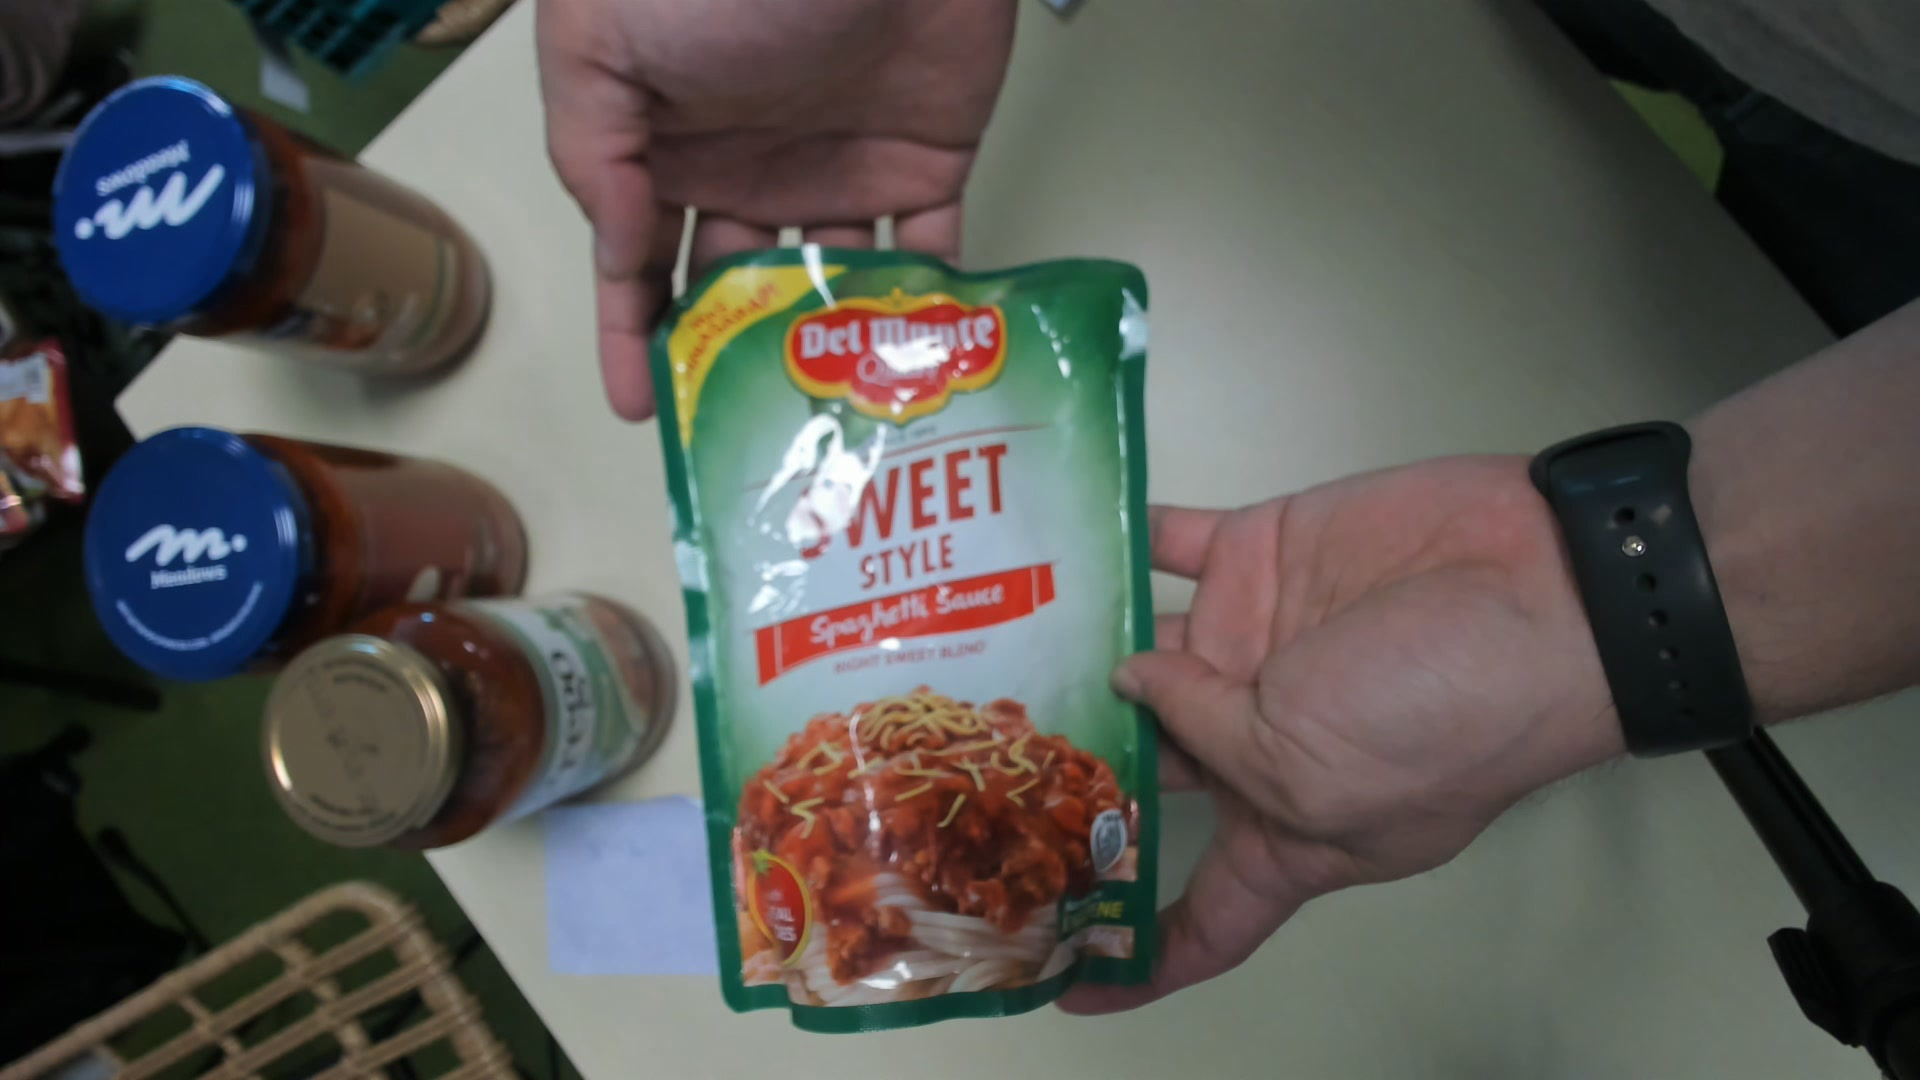PastaSauce_500-599g_Halal_NonHealthy: (662, 245, 1150, 1033)
